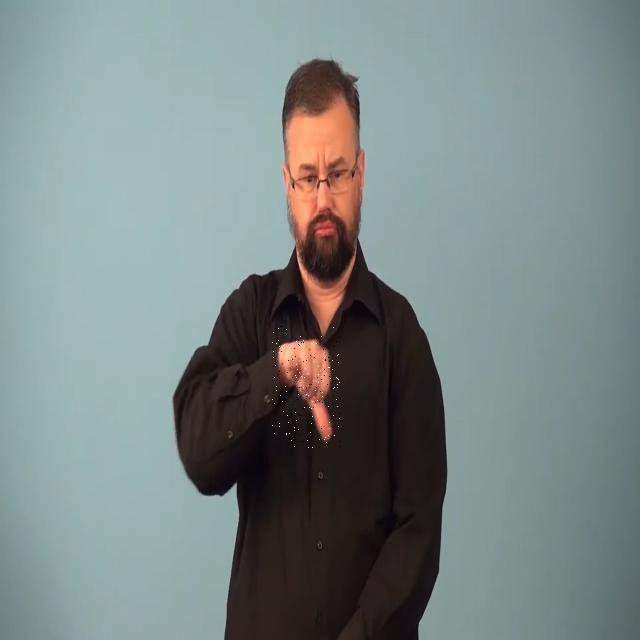mustard: (272, 326, 340, 448)
